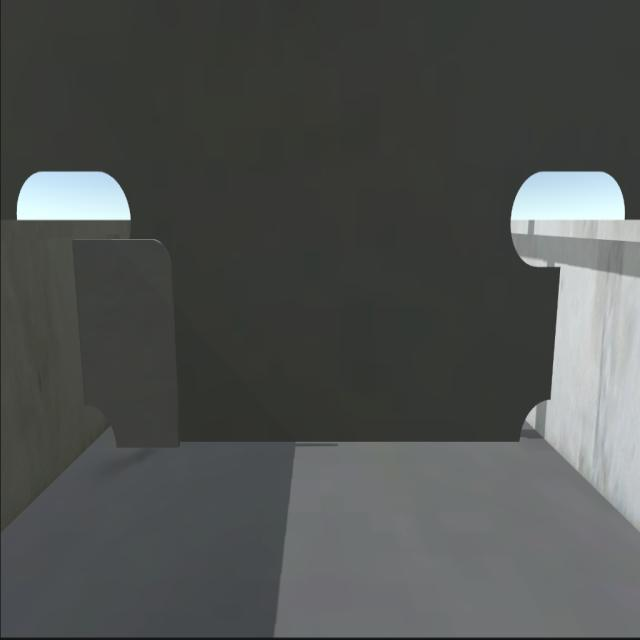fillet_hole: (514, 391, 552, 447), (83, 398, 119, 455)
fillet_yong_jeop_jang: (112, 439, 521, 447)
longi_yong_jeop_jang: (68, 239, 90, 409), (544, 259, 567, 400)
plate_CP05: (71, 238, 179, 452), (363, 578, 364, 578)
